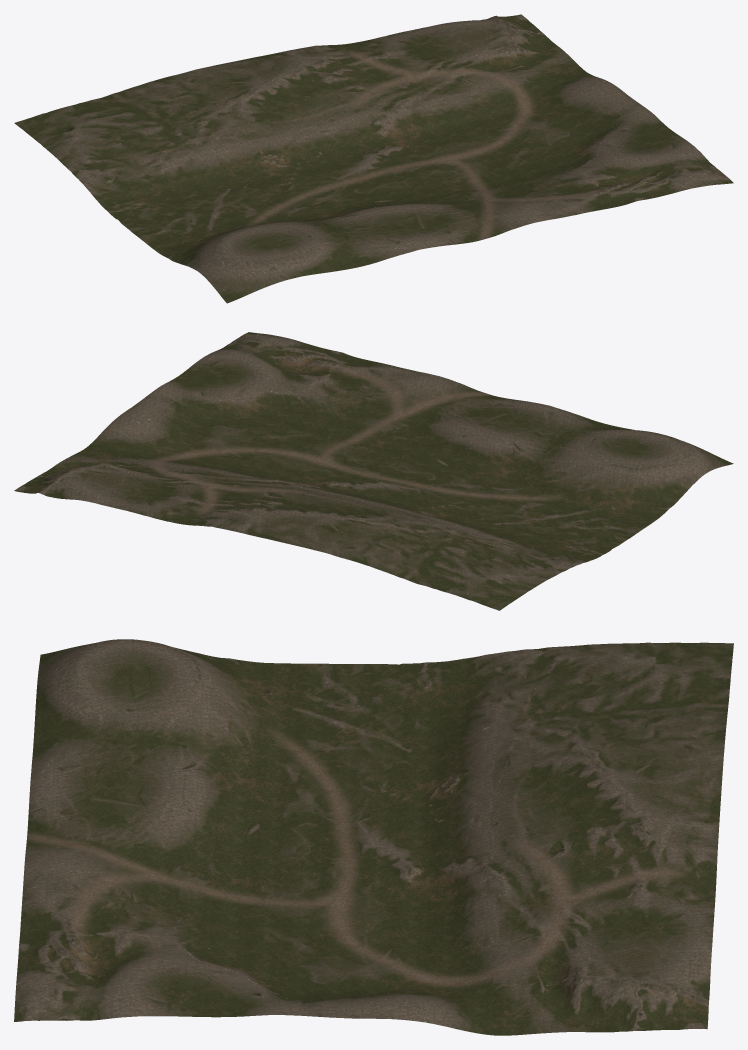
The model's file is Terrain_fixed.dae.
The picture shows the model from 3 angles, top to bottom: view 1: azimuth 30°, elevation 25°; view 2: azimuth 150°, elevation 25°; view 3: azimuth 270°, elevation 25°; orthographic projection. The views are drawn at different scales.
Visible parts, largest first — view 1: Terrain; view 2: Terrain; view 3: Terrain.
Boxes of the visible parts, x1,y1,x2,y2 form: Terrain: (14,14,733,303); Terrain: (14,332,733,610); Terrain: (14,639,733,1035).
Size of the model in its own units: 104 by 82.49 by 6.52.
1 material, 1 textured.
